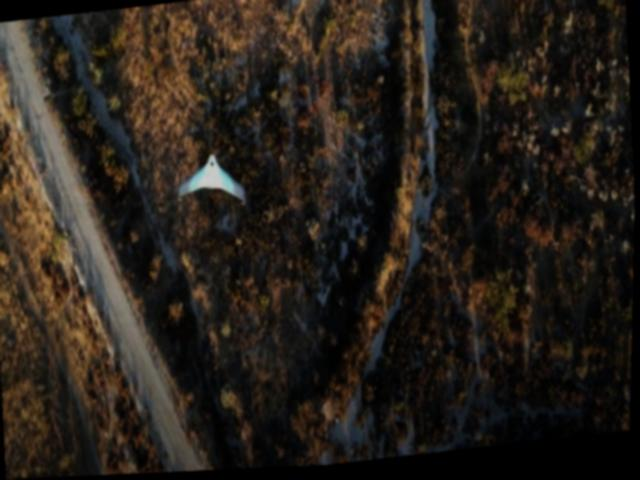iha: (171, 149, 248, 213)
